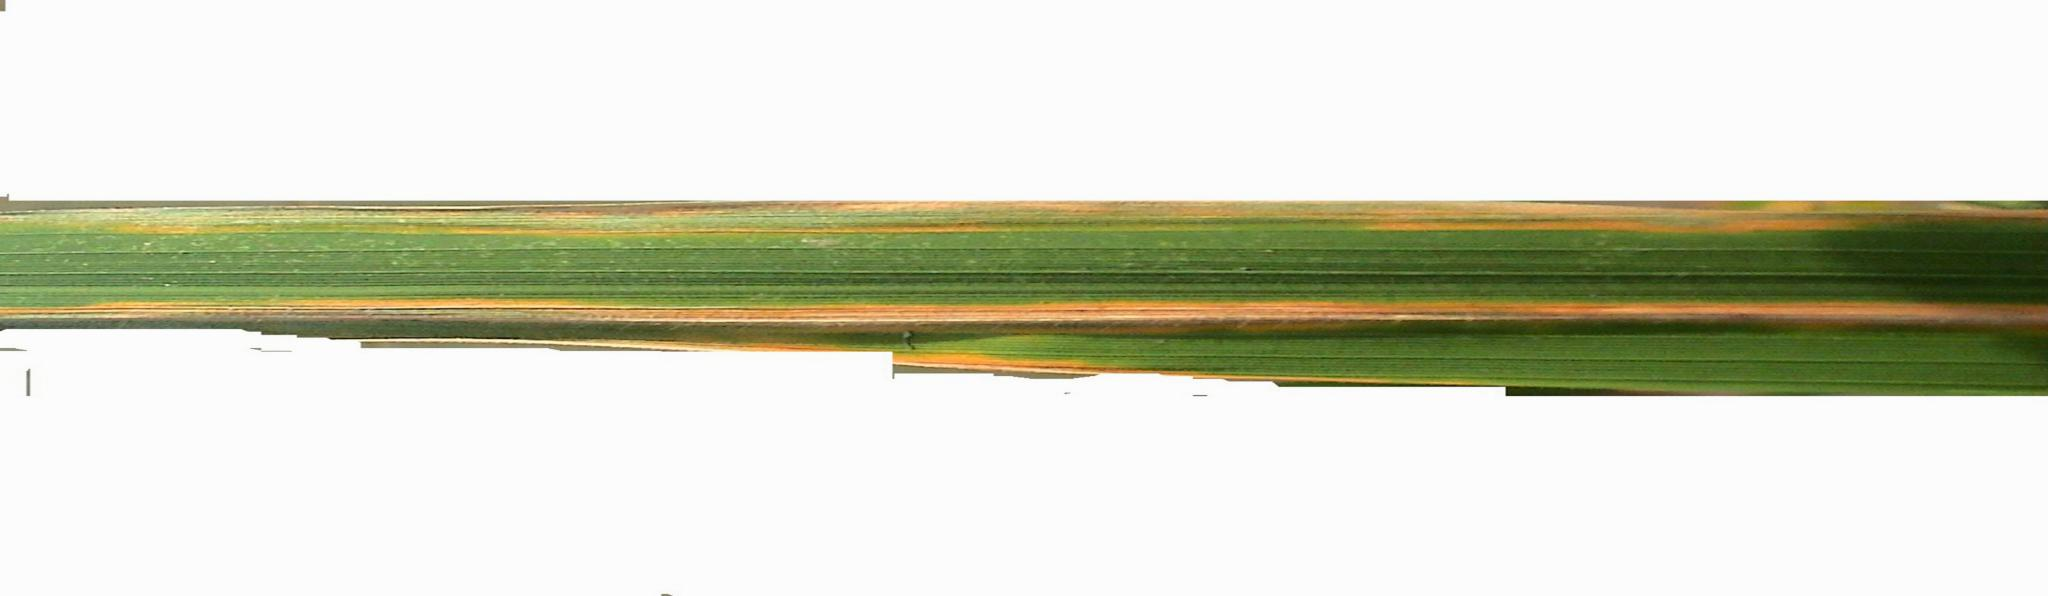2 BacterialBlight: (40, 280, 2038, 373), (38, 168, 2014, 257)
